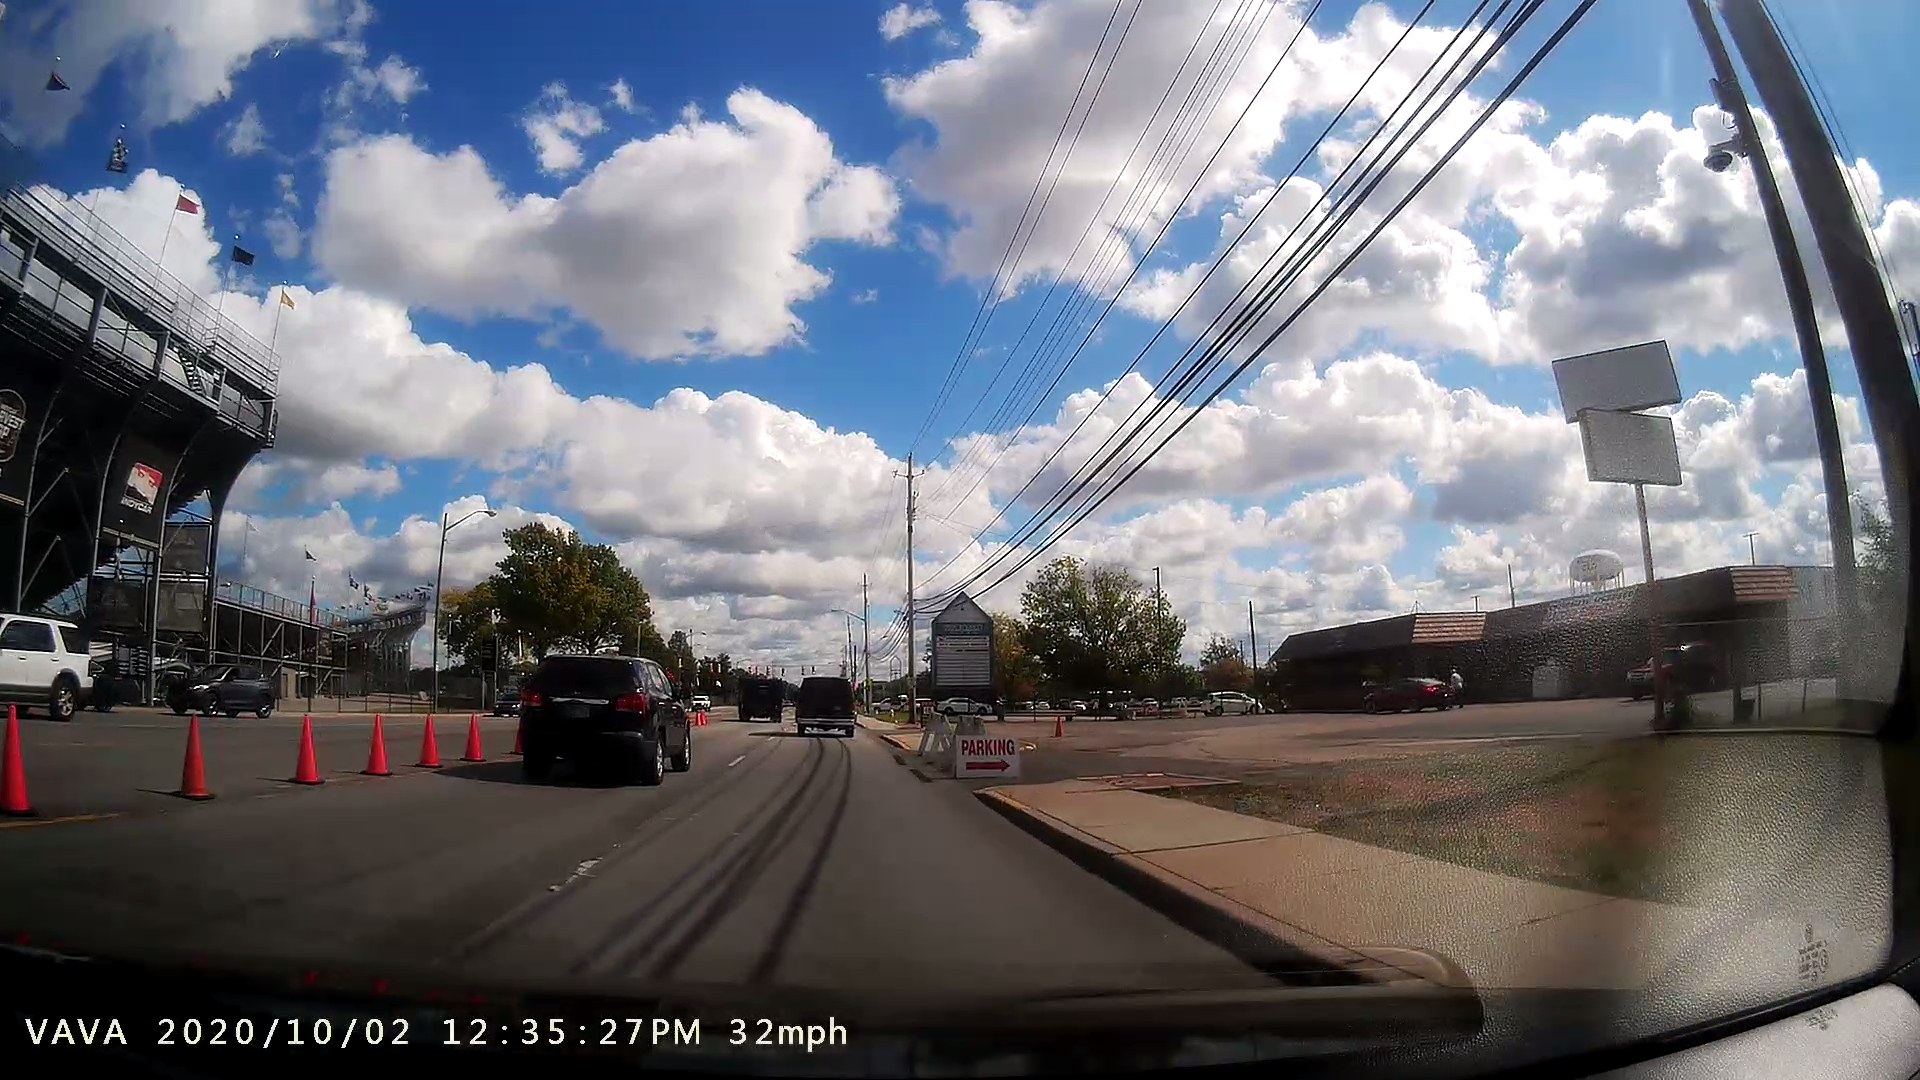const_cone: (156, 713, 224, 810), (277, 702, 334, 796), (355, 702, 398, 793), (456, 709, 491, 775), (414, 705, 443, 775)
